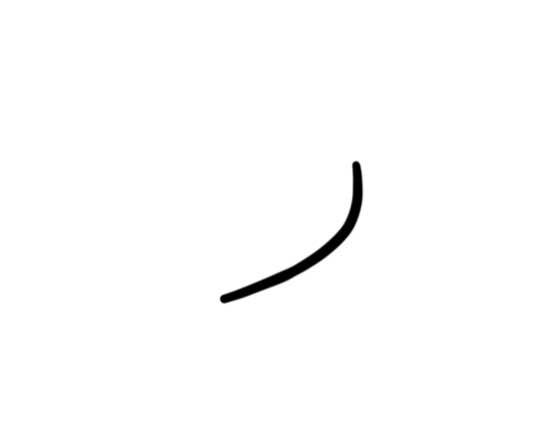no: (205, 155, 367, 315)
